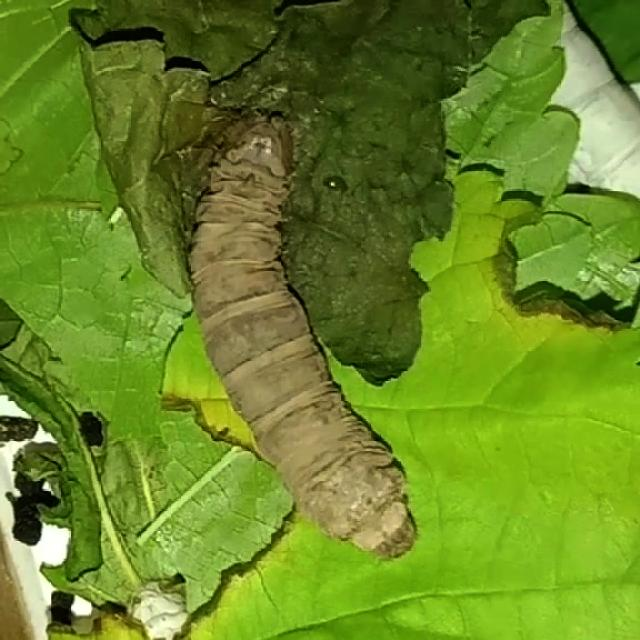Grasserie: (164, 95, 437, 564)
